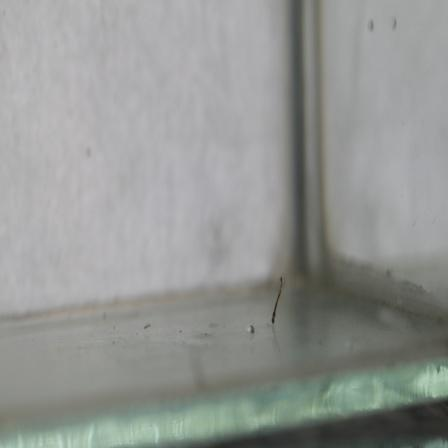Jentik-Nyamuk: (268, 275, 289, 323)
